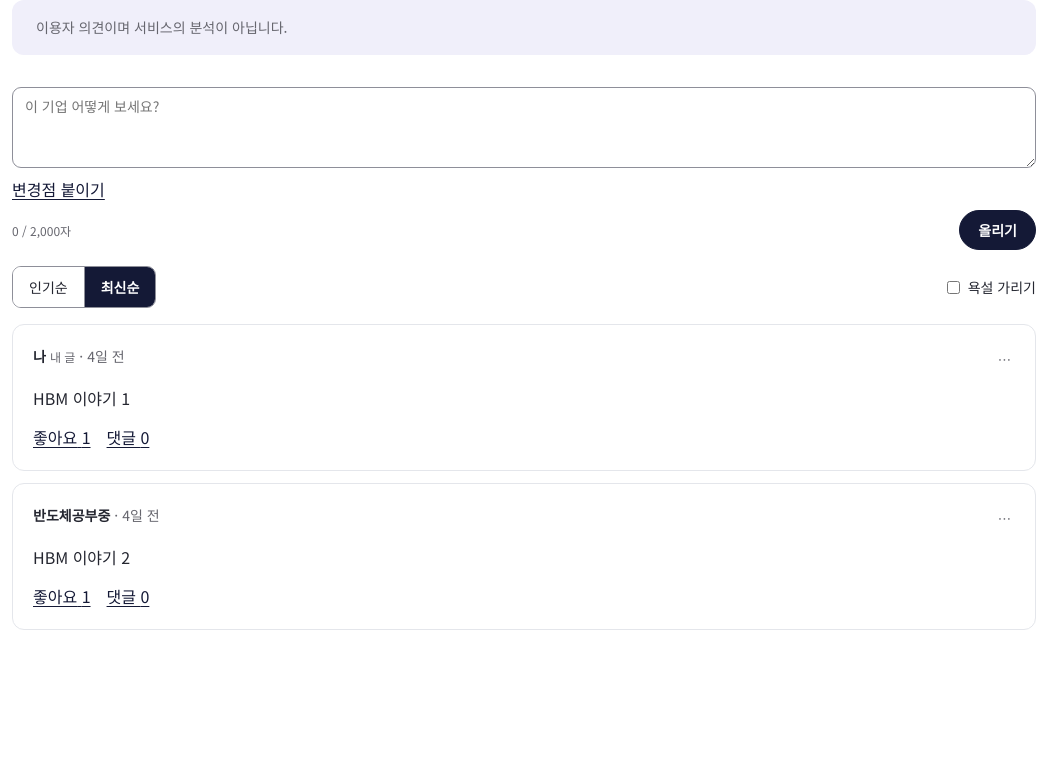
it: 커뮤니티 탭 › 내 글에만 수정·삭제가 있고, 남의 글에는 신고만 있다
The image size is (1048, 768).
expect the text "HBM 이야기 1" is shown: met, box [33, 386, 130, 410]
Click the button named "나님의 글 메뉴": point(1004, 360) [994, 346, 1015, 374]
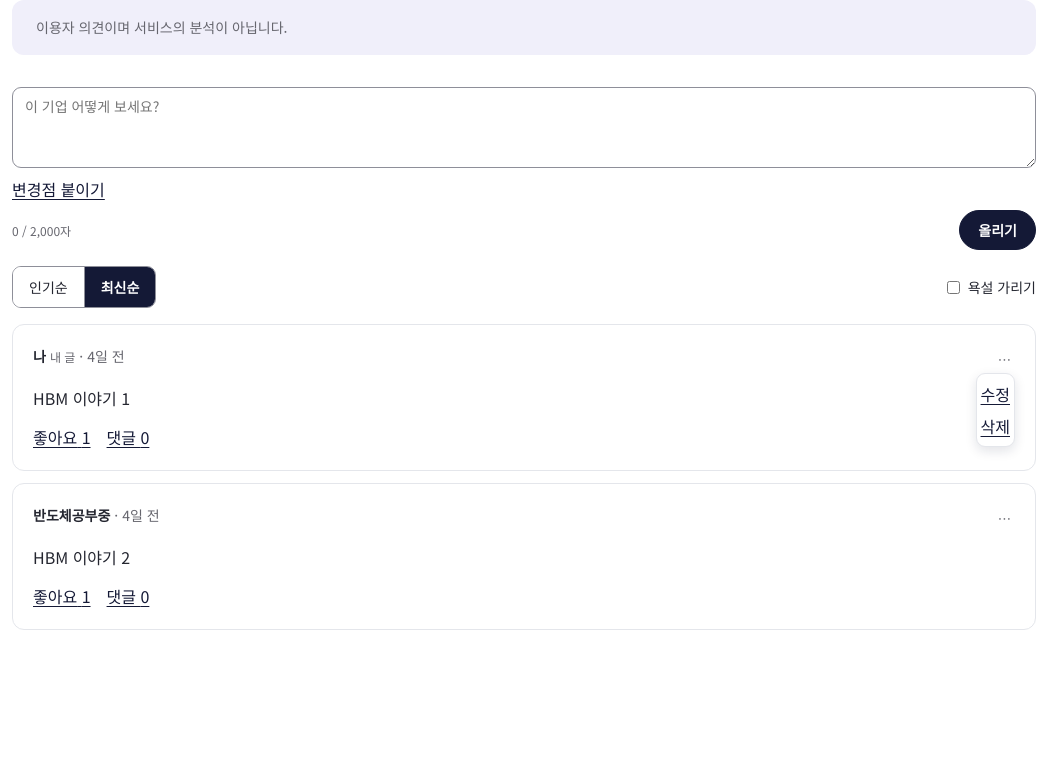
expect the button "신고" is not shown: met
expect the button "수정" is shown: met, box [980, 378, 1010, 410]
expect the button "삭제" is shown: met, box [980, 410, 1010, 442]
Click the button named "나님의 글 메뉴": point(1004, 360) [994, 346, 1015, 374]
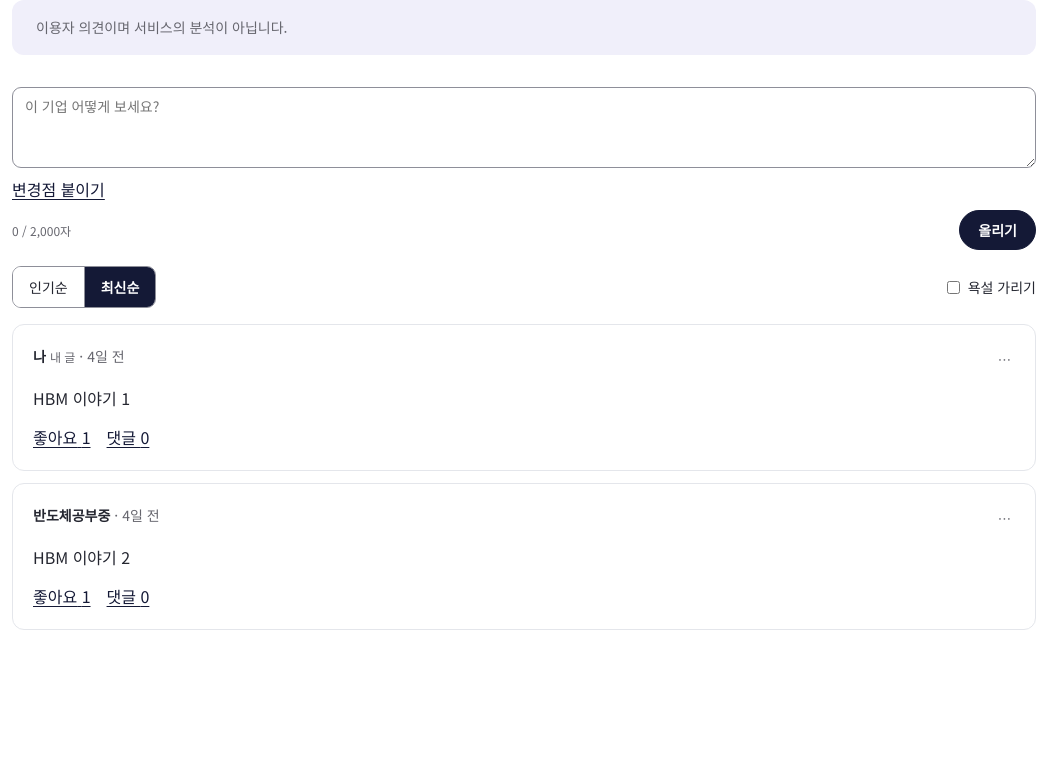
Click the button named "반도체공부중님의 글 메뉴": point(1004, 519) [994, 505, 1015, 532]
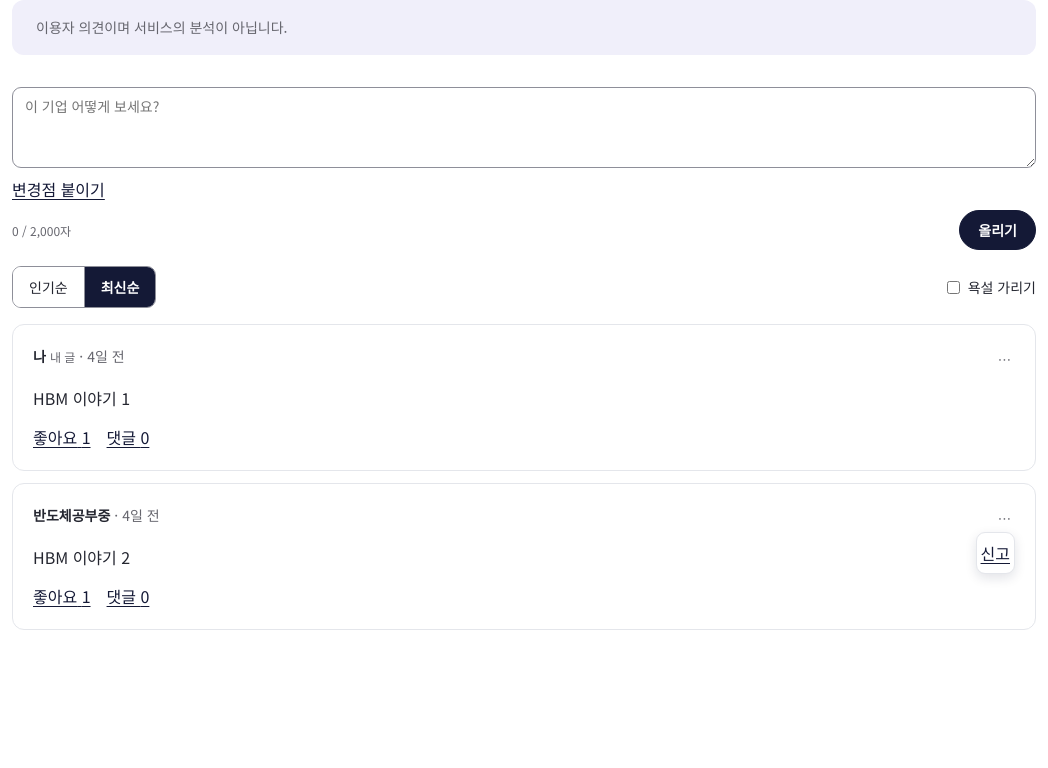
expect the button "수정" is not shown: met
expect the button "신고" is shown: met, box [980, 537, 1010, 569]
